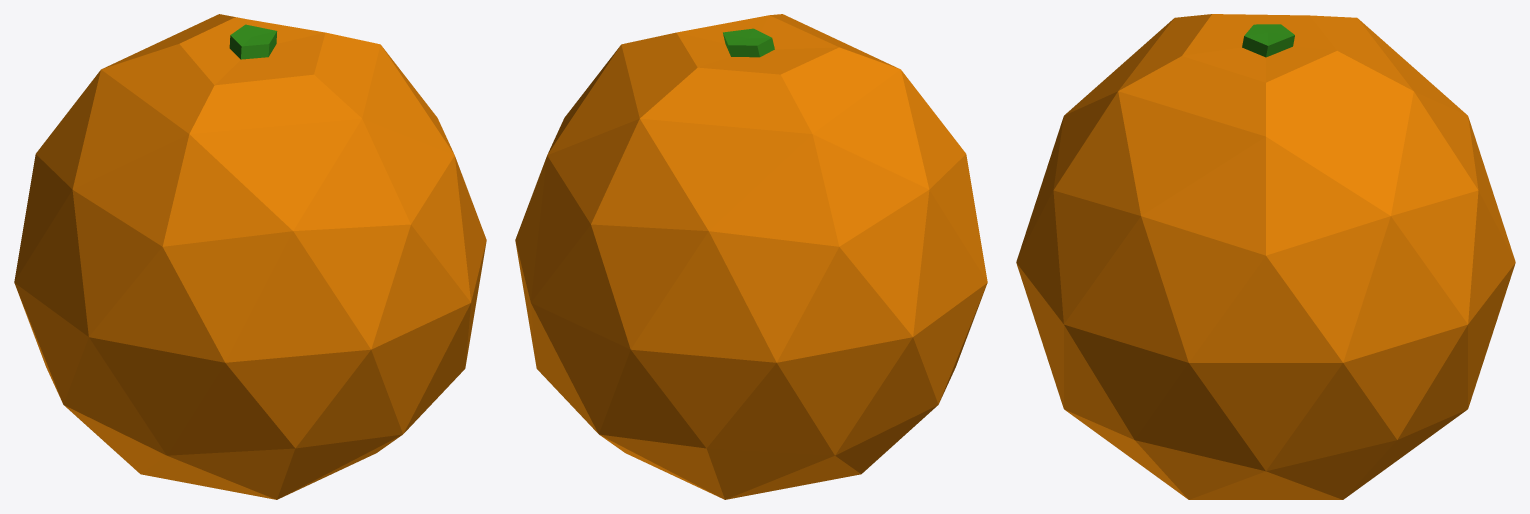
The model's file is orange.fbx.
The picture shows the model from 3 angles, left to right: view 1: azimuth 30°, elevation 25°; view 2: azimuth 150°, elevation 25°; view 3: azimuth 270°, elevation 25°; orthographic projection. The views are drawn at different scales.
Visible parts, largest first — view 1: Icosphere; view 2: Icosphere; view 3: Icosphere.
Part boxes in pixels (x1=…): Icosphere: x1=14, y1=14, x2=486, y2=499; Icosphere: x1=515, y1=14, x2=987, y2=499; Icosphere: x1=1016, y1=14, x2=1515, y2=499.
Size of the model in its own units: 450 by 443 by 473.
